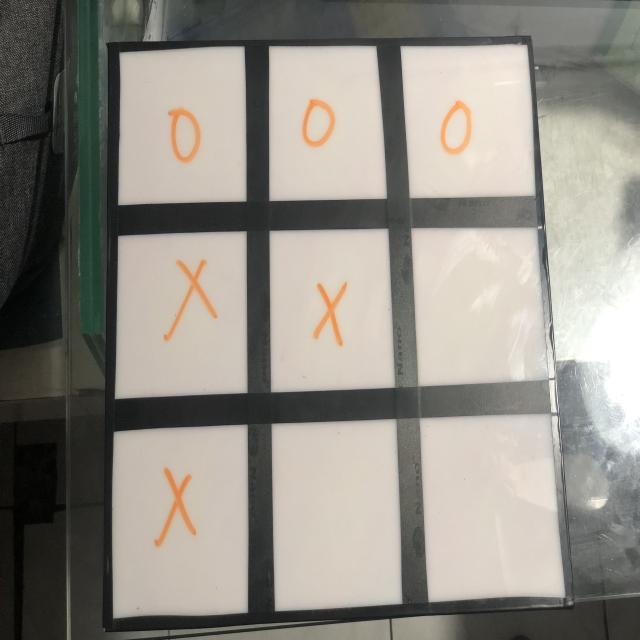null: (421, 413, 567, 605), (271, 416, 402, 611), (408, 221, 550, 391)
o: (435, 88, 480, 166), (165, 99, 210, 170), (300, 86, 336, 158)
table: (75, 26, 577, 634)
x: (162, 255, 221, 346), (149, 463, 199, 554), (310, 275, 350, 352)
